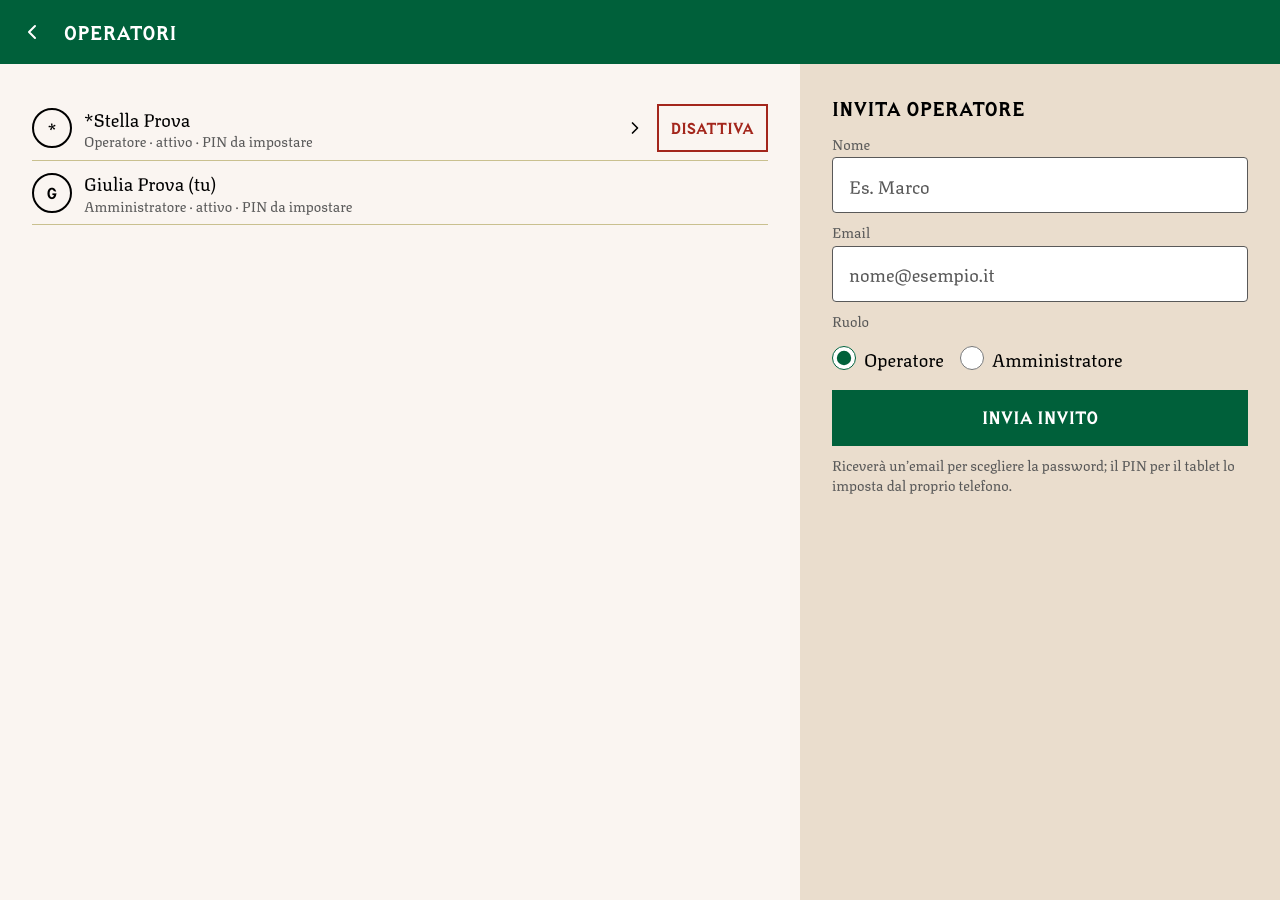
Test: OperatorDialog: opening it › sets a name Enjoy Display lacks in the body font inside the title
What coordinates should you click on to do the following:
click the button "*Stella Prova Operatore · attivo · PIN da impostare"
I would click on:
 (137, 118)
Its box is [84,104,644,152].
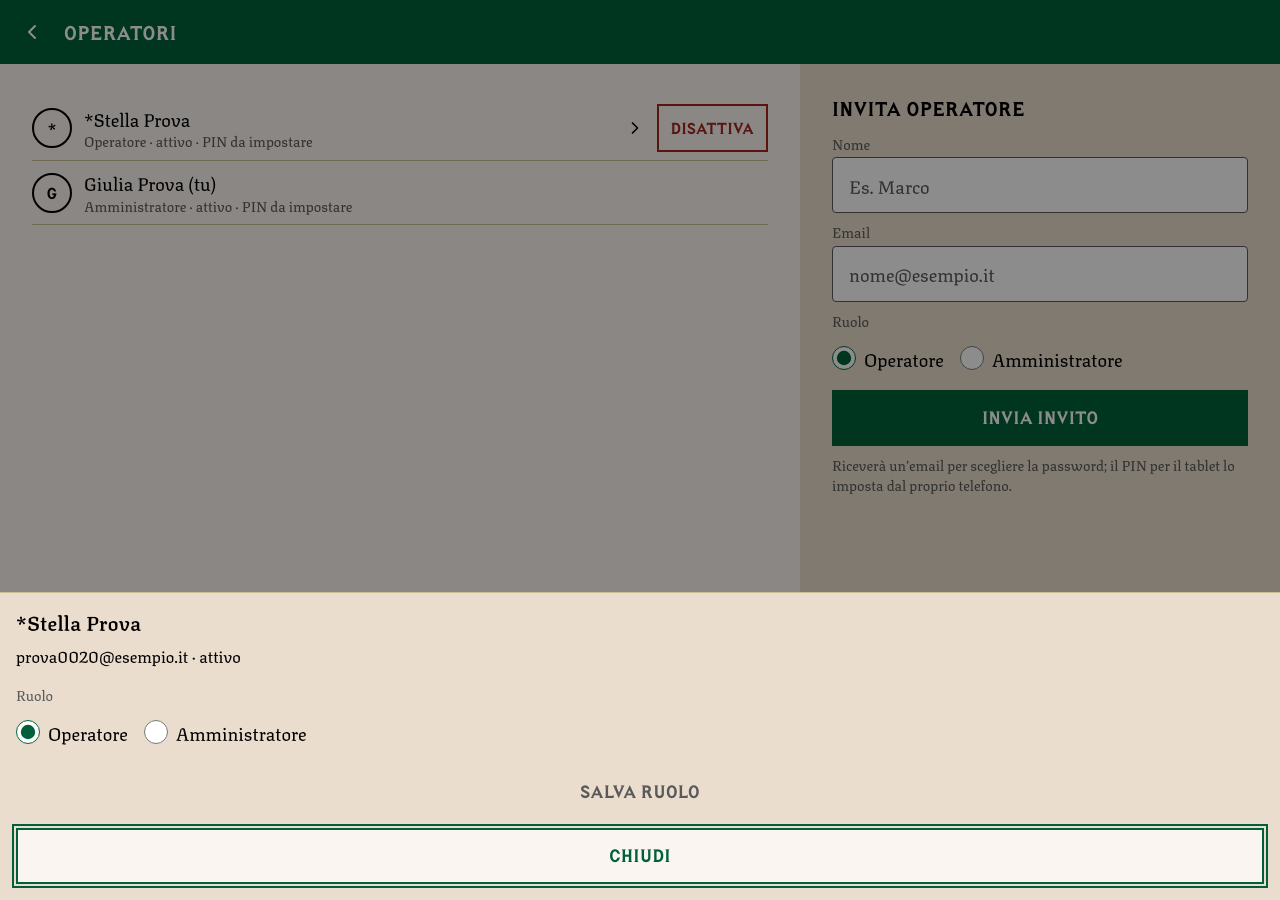
Now the text "*Stella Prova" is shown, box [16,606,142,637]
